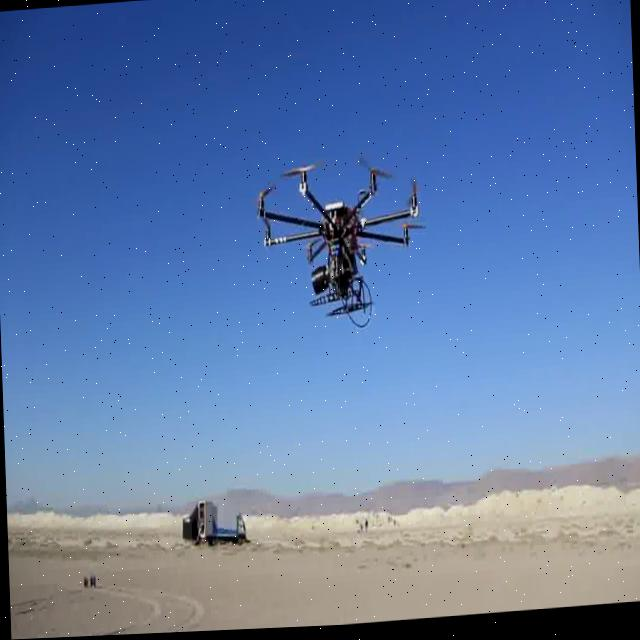drone: (5, 426, 640, 640)
